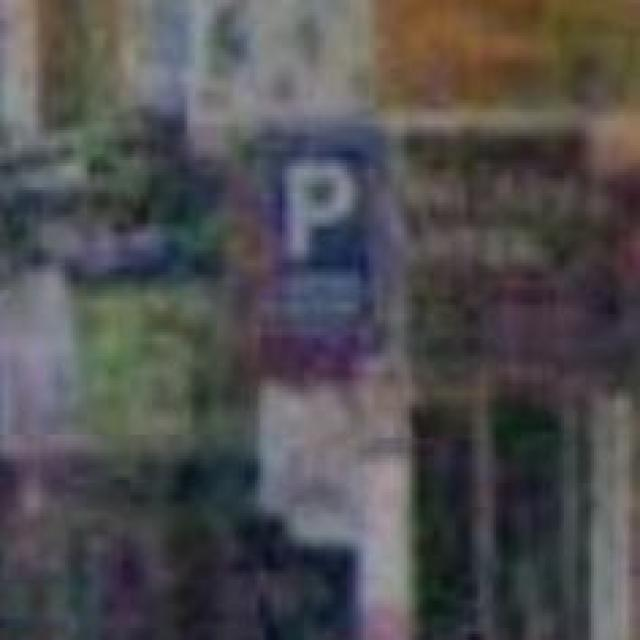traffic sign: (258, 130, 388, 332)
